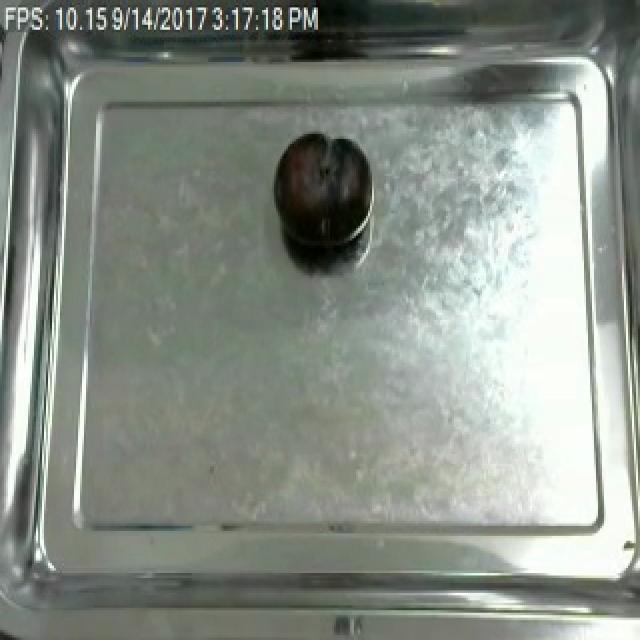Fruit: (270, 129, 374, 258)
